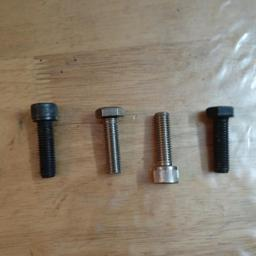screwtype1black: (29, 102, 63, 181)
screwtype1silver: (151, 109, 180, 188)
screwtype2black: (206, 105, 235, 175)
screwtype2silver: (93, 105, 125, 176)
